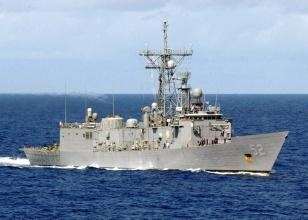warship: (17, 48, 289, 173)
